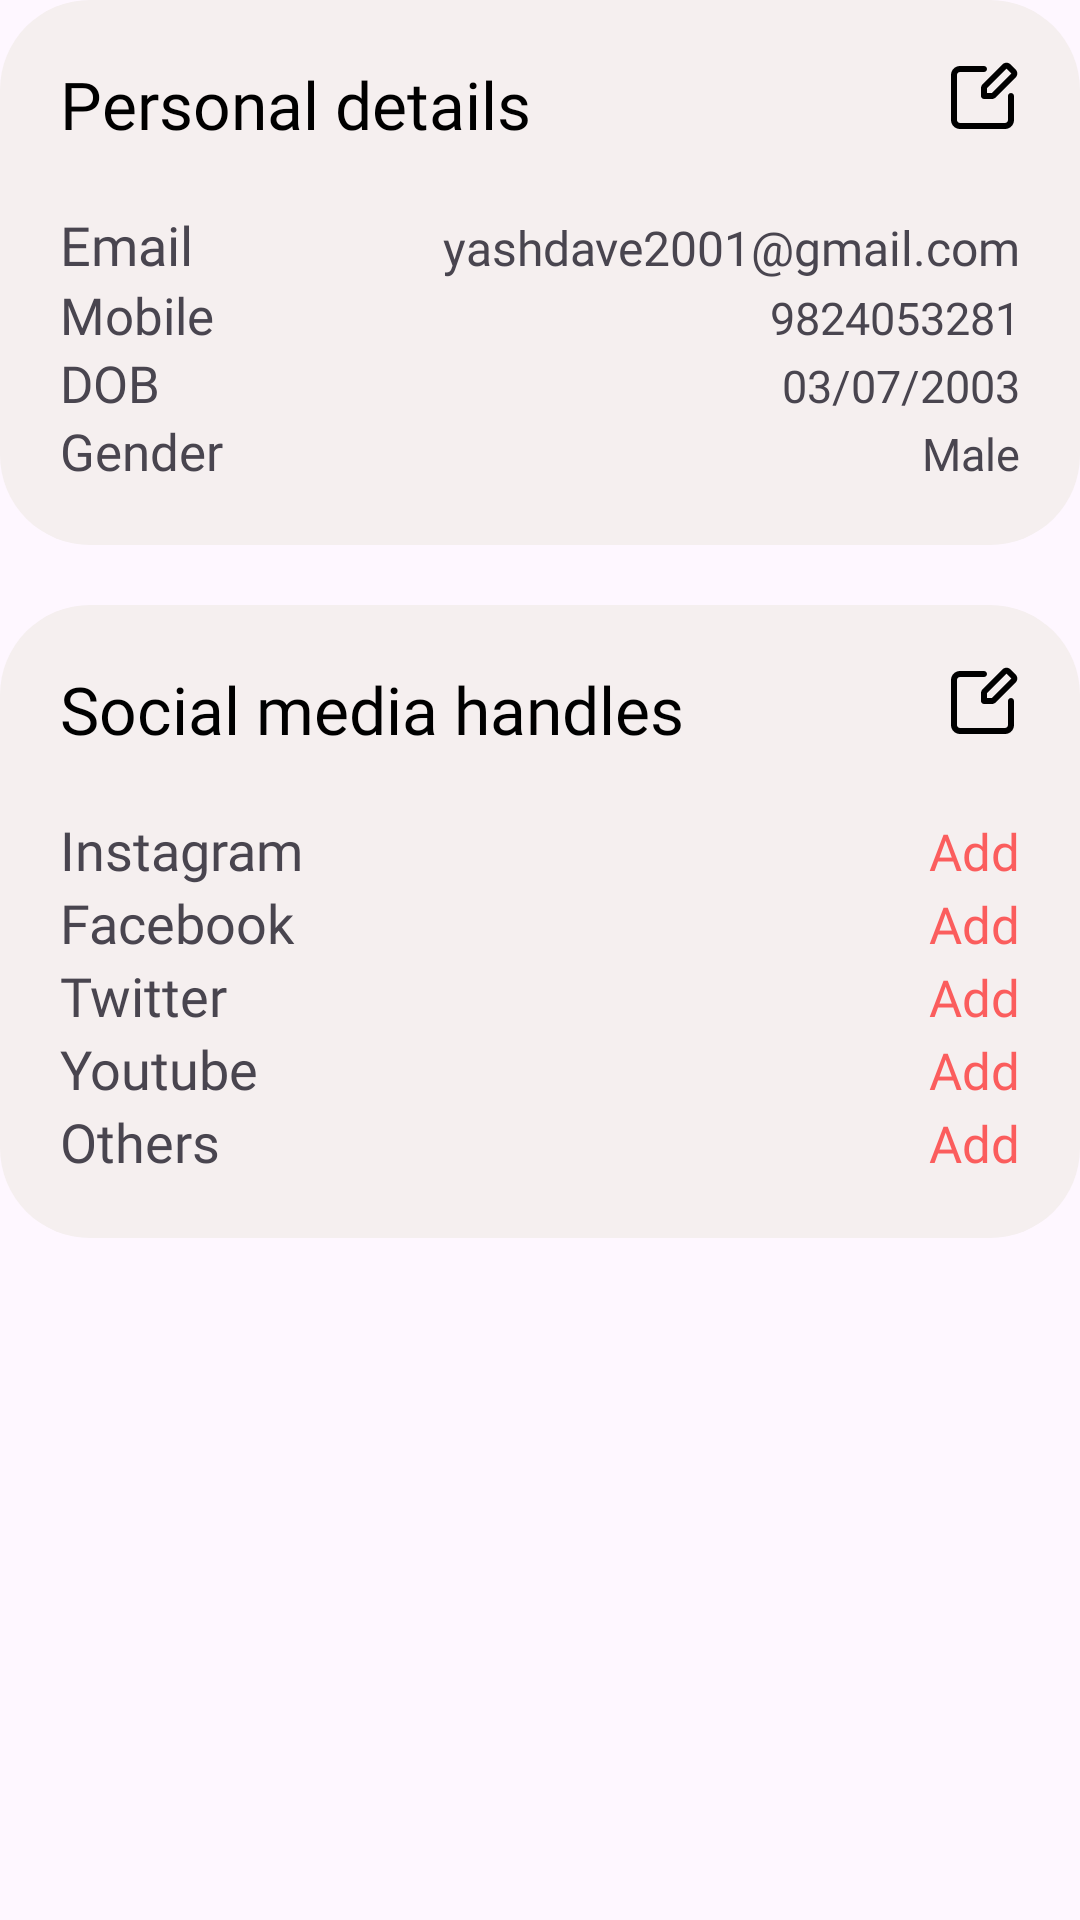

Screen size 1080x1920. Icon name, then its center in pixels as (x=x, y=y):
edit: (x=984, y=95), (x=984, y=700)
